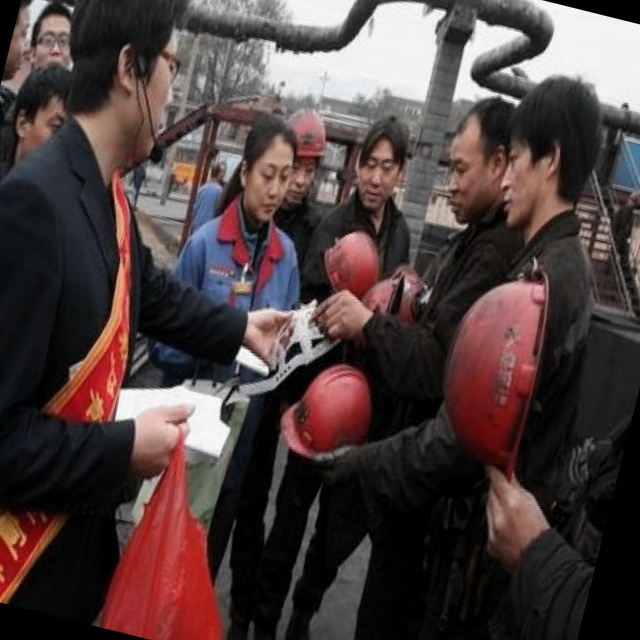Sin_Casco_Mascarrilla: (227, 110, 307, 228), (346, 110, 418, 213)
